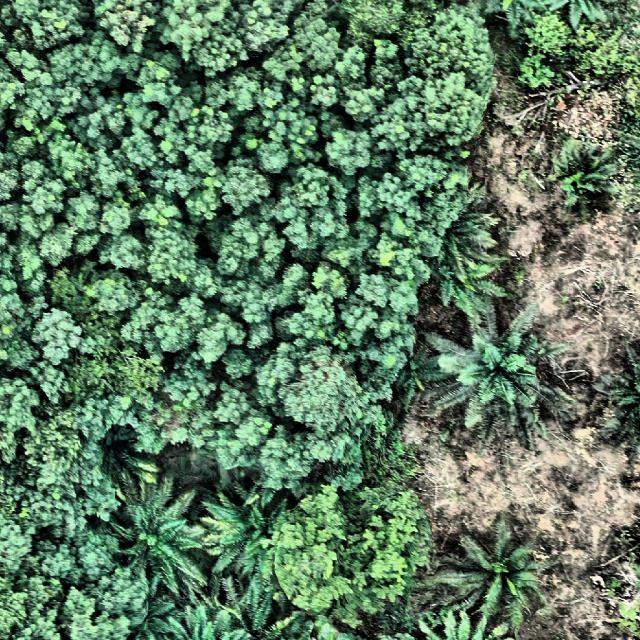Kelapa_Sawit: (444, 325, 566, 433), (196, 486, 312, 576), (95, 498, 200, 597), (434, 518, 547, 606), (433, 214, 508, 320), (140, 584, 258, 640), (376, 601, 518, 640), (556, 142, 619, 213), (603, 345, 640, 447)
